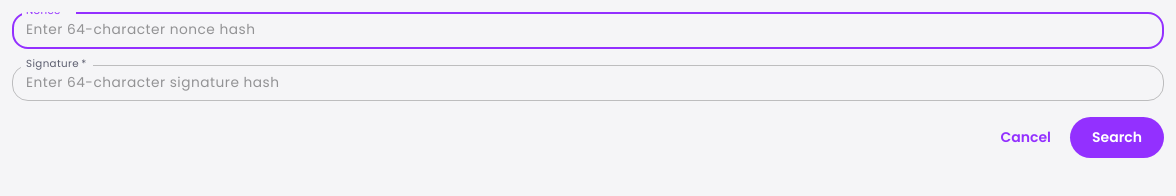
Scenario: SearchKernel › should mark fields as touched when typing
Check: the text "Nonce is required" is not shown
Note: Type something and then delete it
In the field labelled "Nonce *": x=588, y=30 [12, 12, 1164, 49], type "test"
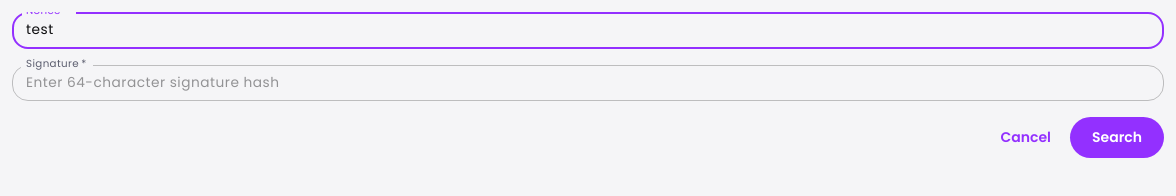
Clear the field labelled "Nonce *": x=588, y=30 [12, 12, 1164, 49]
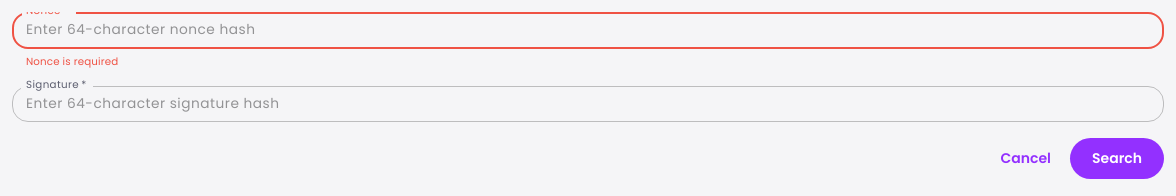
Check: the text "Nonce is required" is shown, box [26, 54, 118, 69]
